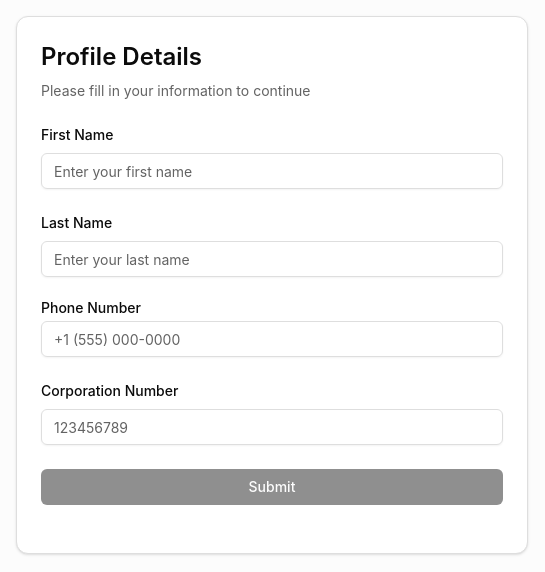
Input Interaction Issues › Corporation number error messages › should show 'Only digits' for non-numeric input
Enter non-numeric input
Type "abc123" into the field labelled "Corporation Number" at (272, 427), box [41,409,503,445]
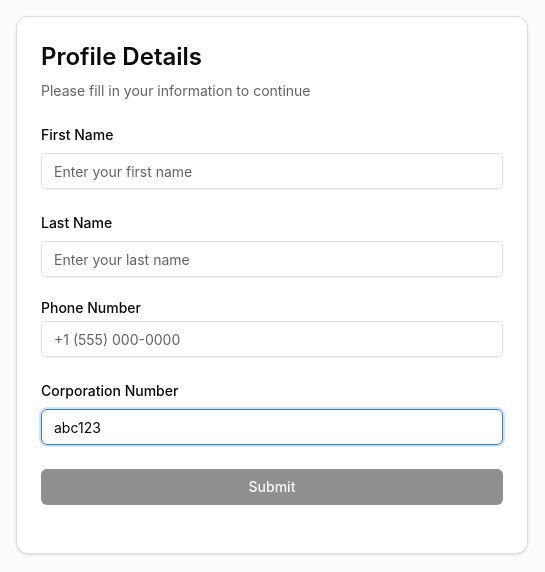
Press Tab
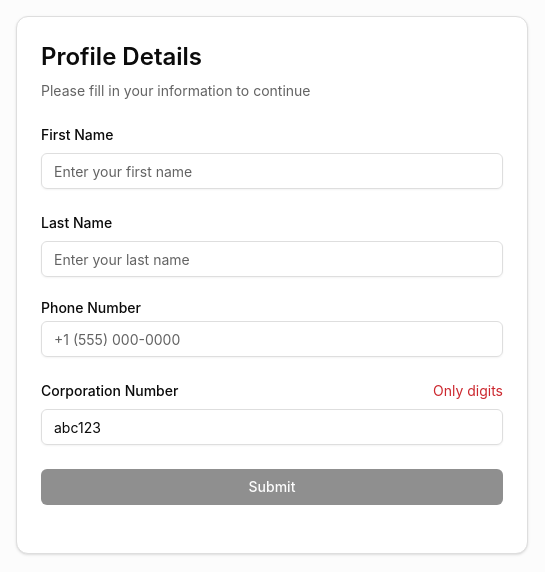
Result: the text "Only digits" is shown at [433,381,503,401]
